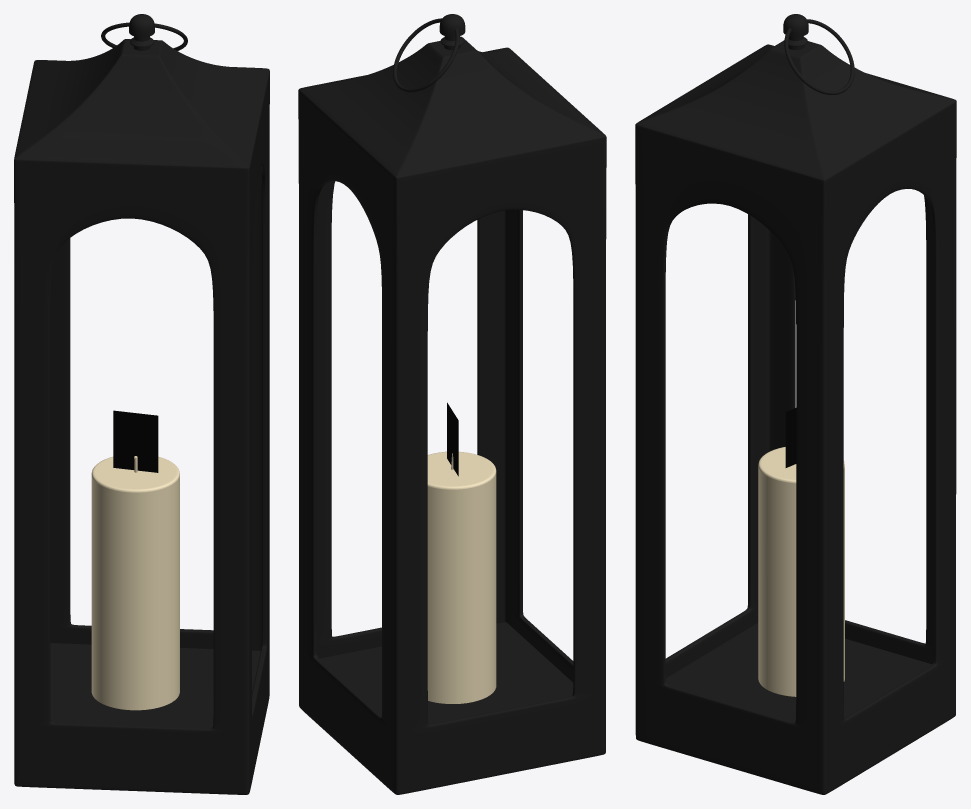
Rendered from Caleb lantern.FBX.
The picture shows the model from 3 angles, left to right: view 1: azimuth 30°, elevation 25°; view 2: azimuth 150°, elevation 25°; view 3: azimuth 270°, elevation 25°; orthographic projection.
Visible parts, largest first — view 1: Object005, Object007, Rectangle005, Rectangle006, Line134, Circle001; view 2: Object005, Object007, Rectangle005, Circle001, Line134, Rectangle006; view 3: Object005, Object007, Rectangle005, Circle001, Line134, Rectangle006.
Part boxes in pixels (x1,y1,x2,y2): Object005: [14, 39, 269, 794]; Object007: [91, 456, 179, 710]; Rectangle005: [50, 643, 260, 727]; Rectangle006: [113, 410, 158, 472]; Line134: [129, 14, 154, 50]; Circle001: [101, 22, 187, 50]; Object005: [298, 36, 606, 794]; Object007: [427, 451, 496, 703]; Rectangle005: [320, 622, 573, 723]; Circle001: [393, 18, 459, 92]; Line134: [439, 14, 465, 50]; Rectangle006: [447, 402, 458, 476]; Object005: [635, 40, 956, 794]; Object007: [758, 447, 844, 696]; Rectangle005: [666, 623, 931, 721]; Circle001: [784, 19, 854, 94]; Line134: [783, 14, 808, 50]; Rectangle006: [785, 408, 796, 467].
Size of the model in its own units: 27.75 by 67.84 by 27.75.
